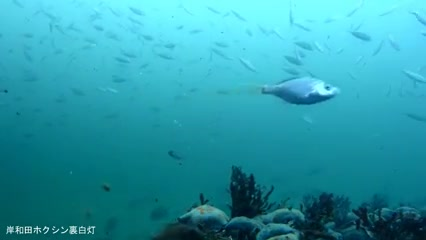smallfish: (250, 71, 344, 113)
